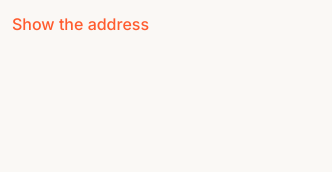
ProtectedEmail: address protection › supports a custom domain and tld
Step 1. Click the button → coordinates (80, 24), box [12,12,149,36]
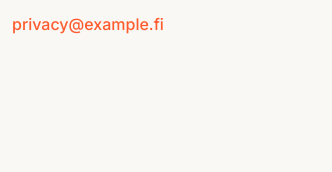
Now the link reads "privacy@example.fi", box [12,14,164,34]
